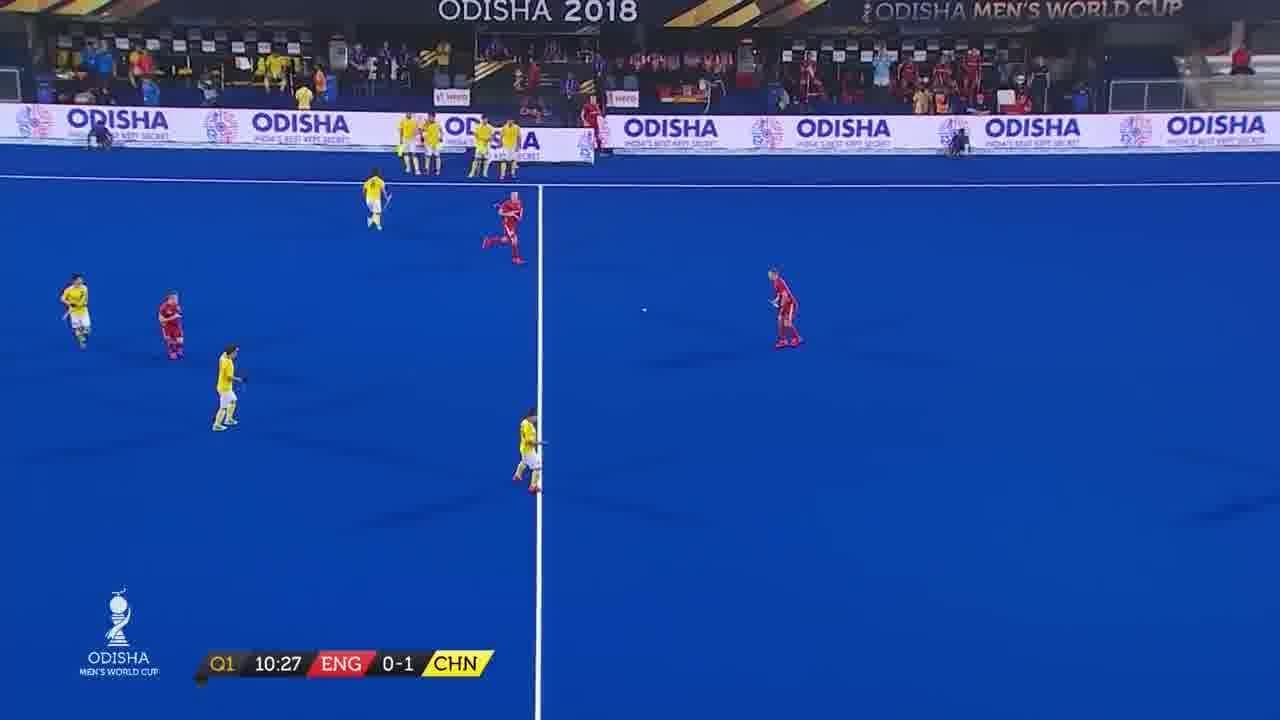ball: (633, 300, 653, 320)
